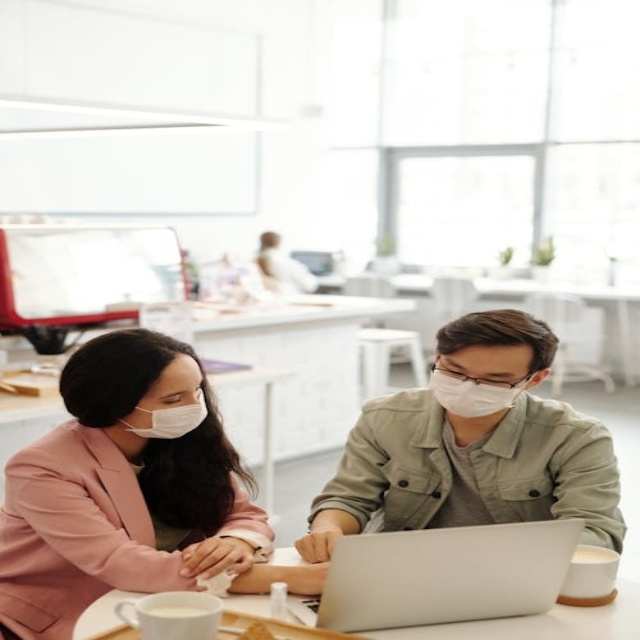Gafas: (431, 357, 536, 390)
Mascara: (429, 362, 535, 417), (119, 389, 209, 439)
Sin_gafas: (145, 375, 206, 407)
Sin_guantes: (179, 532, 256, 580), (294, 528, 342, 564)
